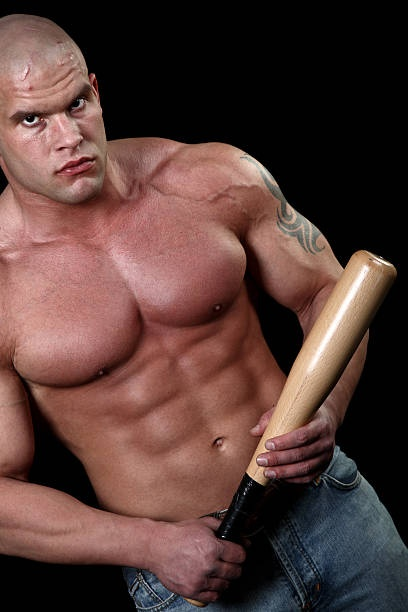bita: (188, 250, 393, 602)
